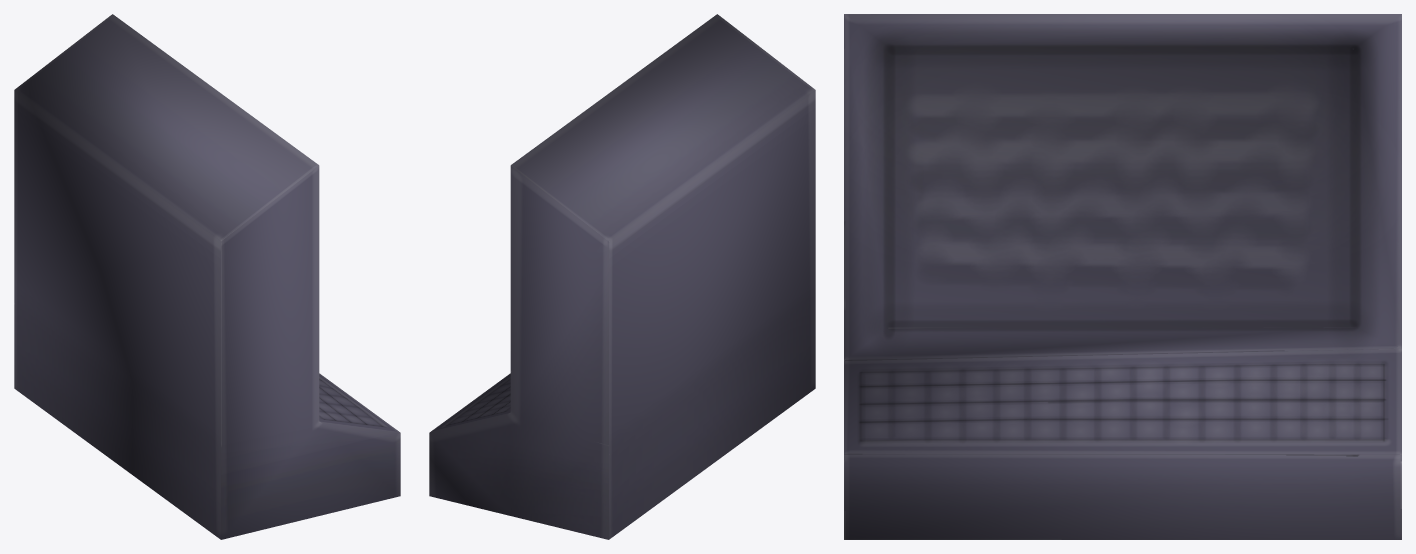
Rendered from computador-pequeno.fbx.
The picture shows the model from 3 angles, left to right: view 1: azimuth 30°, elevation 25°; view 2: azimuth 150°, elevation 25°; view 3: azimuth 270°, elevation 25°; orthographic projection. The views are drawn at different scales.
Parts seen in each view (by area): view 1: PC(Entrada).001; view 2: PC(Entrada).001; view 3: PC(Entrada).001.
Boxes of the visible parts, x1,y1,x2,y2 form: PC(Entrada).001: (14, 14, 400, 539); PC(Entrada).001: (429, 14, 815, 539); PC(Entrada).001: (844, 14, 1401, 539).
Size of the model in its own units: 1 by 1.87 by 2.
